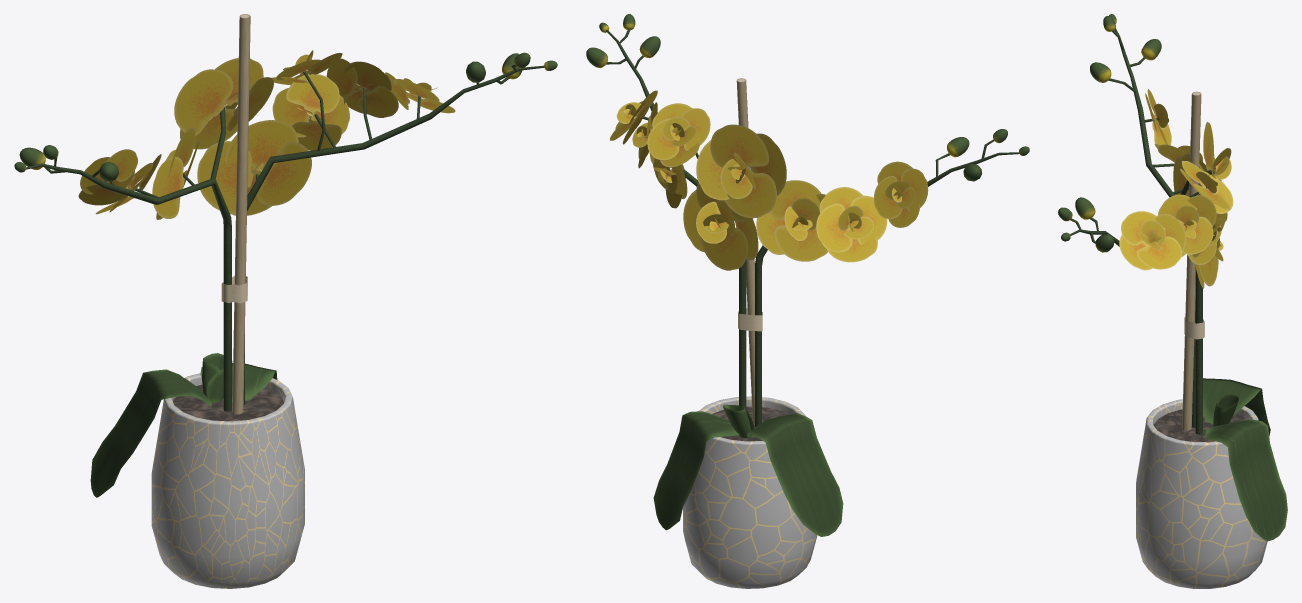
The picture shows the model from 3 angles, left to right: view 1: azimuth 30°, elevation 25°; view 2: azimuth 150°, elevation 25°; view 3: azimuth 270°, elevation 25°; orthographic projection. The views are drawn at different scales.
Visible parts, largest first — view 1: pCylinder20; view 2: pCylinder20; view 3: pCylinder20.
Boxes of the visible parts, x1=… form: pCylinder20: x1=14, y1=14, x2=557, y2=588; pCylinder20: x1=586, y1=14, x2=1029, y2=588; pCylinder20: x1=1058, y1=14, x2=1287, y2=588.
Bounding box in the file's own units: 0.3828 × 0.3884 × 0.1688.
Materials: 2 (2 with a texture image).
